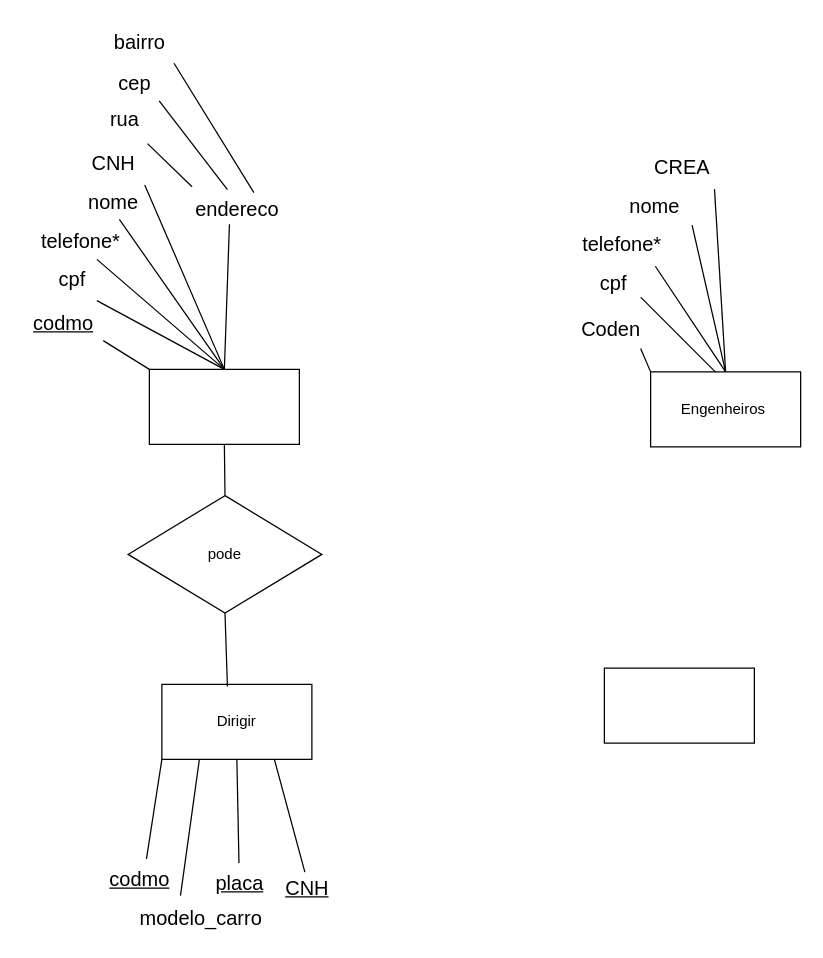
This 823x958 diagram has some shape labels left out. Each missing label, with the box of its shape:
Motoristas: (148, 368, 299, 444)
Projeto: (603, 667, 754, 743)
